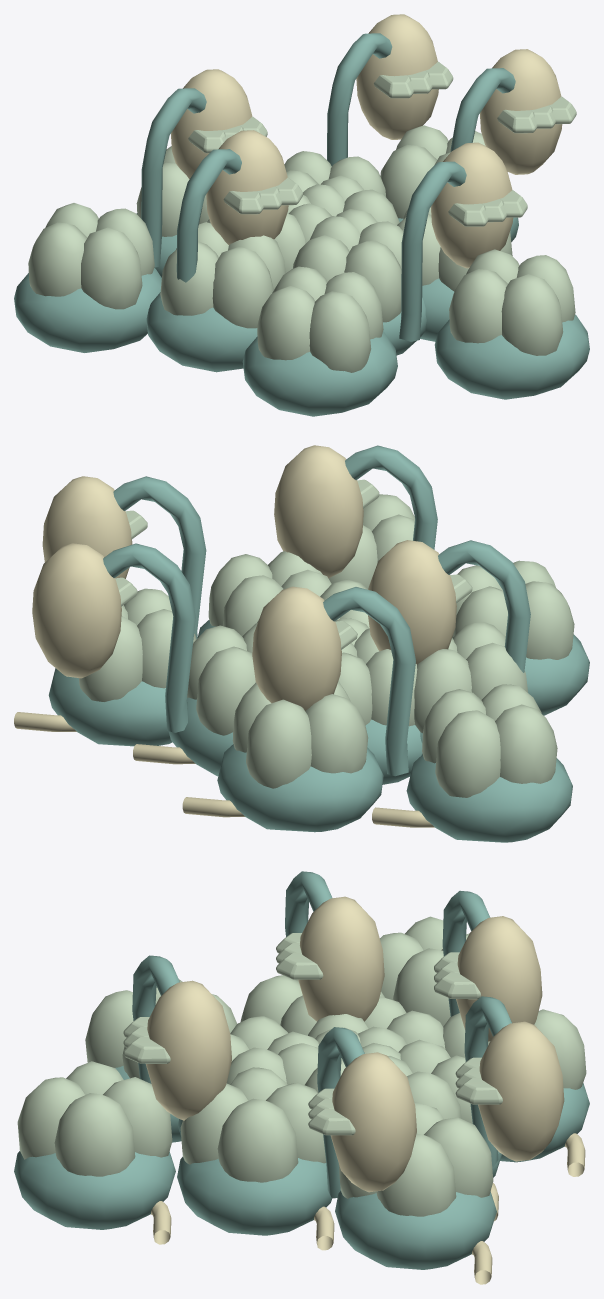
Rendered from bio_oxygen_reef_08_far.glb.
3 renders of one model, top to bottom at view 1: azimuth 30°, elevation 25°; view 2: azimuth 150°, elevation 25°; view 3: azimuth 270°, elevation 25°, orthographic. The views are drawn at different scales.
Parts seen in each view (by area): view 1: Lobed gas sac.028, Lobed gas sac.040, Lobed gas sac.036, Lobed gas sac.016, Photosynthetic cushion.007, Photosynthetic cushion.010, Photosynthetic cushion.009, Lobed gas sac.008, Pendant spore capsule.003, Pendant spore capsule, Pendant spore capsule.002, Pendant spore capsule.004 (+20 smaller); view 2: Lobed gas sac.036, Lobed gas sac.024, Pendant spore capsule.003, Pendant spore capsule.002, Pendant spore capsule.001, Photosynthetic cushion.009, Photosynthetic cushion.006, Pendant spore capsule.004, Lobed gas sac.028, Lobed gas sac.032, Lobed gas sac.016, Photosynthetic cushion.008 (+18 smaller); view 3: Lobed gas sac.040, Lobed gas sac.020, Pendant spore capsule.003, Pendant spore capsule, Pendant spore capsule.002, Photosynthetic cushion.008, Photosynthetic cushion.010, Lobed gas sac.032, Photosynthetic cushion.005, Pendant spore capsule.004, Pendant spore capsule.001, Lobed gas sac.036 (+22 smaller).
Boxes of the visible parts, x1,y1,x2,y2 form: Lobed gas sac.028: [257, 266, 383, 372]; Lobed gas sac.040: [449, 249, 575, 355]; Lobed gas sac.036: [28, 203, 154, 309]; Lobed gas sac.016: [160, 222, 285, 328]; Photosynthetic cushion.007: [242, 331, 397, 416]; Photosynthetic cushion.010: [434, 314, 589, 399]; Photosynthetic cushion.009: [14, 268, 161, 352]; Lobed gas sac.008: [293, 216, 403, 322]; Pendant spore capsule.003: [356, 14, 438, 139]; Pendant spore capsule: [480, 49, 562, 174]; Pendant spore capsule.002: [431, 142, 513, 268]; Pendant spore capsule.004: [206, 130, 288, 244]; Lobed gas sac.036: [422, 684, 557, 797]; Lobed gas sac.024: [232, 681, 368, 788]; Pendant spore capsule.003: [32, 543, 121, 678]; Pendant spore capsule.002: [274, 445, 363, 578]; Pendant spore capsule.001: [252, 586, 341, 711]; Photosynthetic cushion.009: [406, 754, 572, 842]; Photosynthetic cushion.006: [217, 744, 383, 832]; Pendant spore capsule.004: [368, 540, 456, 664]; Lobed gas sac.028: [452, 560, 574, 659]; Lobed gas sac.032: [78, 588, 196, 701]; Lobed gas sac.016: [414, 622, 527, 733]; Photosynthetic cushion.008: [48, 668, 172, 746]; Lobed gas sac.040: [17, 1061, 172, 1176]; Lobed gas sac.020: [180, 1067, 326, 1182]; Pendant spore capsule.003: [478, 1021, 564, 1161]; Pendant spore capsule: [330, 1052, 416, 1192]; Pendant spore capsule.002: [146, 980, 231, 1120]; Photosynthetic cushion.008: [335, 1191, 496, 1269]; Photosynthetic cushion.010: [14, 1151, 175, 1229]; Lobed gas sac.032: [338, 1101, 493, 1216]; Photosynthetic cushion.005: [177, 1156, 332, 1235]; Pendant spore capsule.004: [298, 896, 384, 1021]; Pendant spore capsule.001: [456, 916, 542, 1041]; Lobed gas sac.036: [380, 916, 469, 1026].
Size of the model in its own units: 1.92 by 0.7758 by 1.71.
